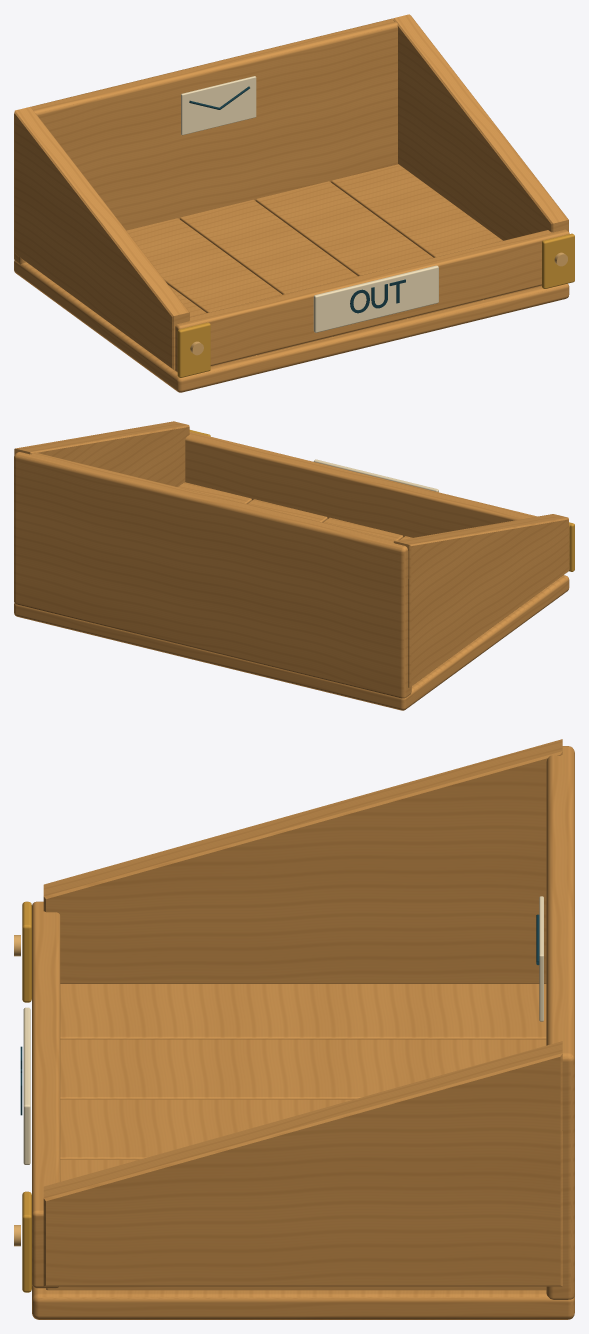
File: mail-dispatch-bin.glb
3 renders of one model, top to bottom at view 1: azimuth 30°, elevation 25°; view 2: azimuth 150°, elevation 25°; view 3: azimuth 270°, elevation 25°, orthographic. The views are drawn at different scales.
Visible parts, largest first — view 1: Dispatch_Bin_Back, Dispatch_Bin_Sloped_Side_-0.15, Dispatch_Bin_Sloped_Side_0.15, Dispatch_Bin_Low_Front, Dispatch_Bin_Subfloor, Dispatch_Bin_Floor_Plank_3, Dispatch_Bin_Floor_Plank_2, Dispatch_Bin_Floor_Plank_4, Dispatch_Bin_Floor_Plank_1, Dispatch_Bin_Post_Plaque, Dispatch_Bin_Envelope_Badge, Dispatch_Bin_Corner_Plate_-0.144 (+2 smaller); view 2: Dispatch_Bin_Back, Dispatch_Bin_Sloped_Side_-0.15, Dispatch_Bin_Low_Front, Dispatch_Bin_Subfloor, Dispatch_Bin_Sloped_Side_0.15, Dispatch_Bin_Floor_Plank_2, Dispatch_Bin_Floor_Plank_3, Dispatch_Bin_Floor_Plank_4, Dispatch_Bin_Post_Plaque; view 3: Dispatch_Bin_Sloped_Side_0.15, Dispatch_Bin_Sloped_Side_-0.15, Dispatch_Bin_Floor_Plank_0, Dispatch_Bin_Floor_Plank_1, Dispatch_Bin_Subfloor, Dispatch_Bin_Back, Dispatch_Bin_Floor_Plank_2, Dispatch_Bin_Low_Front, Dispatch_Bin_Floor_Plank_4, Dispatch_Bin_Post_Plaque, Dispatch_Bin_Corner_Plate_-0.144, Dispatch_Bin_Corner_Plate_0.144 (+1 smaller).
Boxes of the visible parts, x1=… form: Dispatch_Bin_Back: x1=14, y1=18, x2=398, y2=264; Dispatch_Bin_Sloped_Side_-0.15: x1=14, y1=107, x2=189, y2=369; Dispatch_Bin_Sloped_Side_0.15: x1=393, y1=14, x2=568, y2=240; Dispatch_Bin_Low_Front: x1=174, y1=229, x2=569, y2=372; Dispatch_Bin_Subfloor: x1=14, y1=260, x2=569, y2=392; Dispatch_Bin_Floor_Plank_3: x1=255, y1=181, x2=482, y2=318; Dispatch_Bin_Floor_Plank_2: x1=180, y1=199, x2=406, y2=336; Dispatch_Bin_Floor_Plank_4: x1=331, y1=164, x2=541, y2=299; Dispatch_Bin_Floor_Plank_1: x1=126, y1=218, x2=331, y2=355; Dispatch_Bin_Post_Plaque: x1=313, y1=265, x2=438, y2=332; Dispatch_Bin_Envelope_Badge: x1=181, y1=76, x2=256, y2=135; Dispatch_Bin_Corner_Plate_-0.144: x1=177, y1=322, x2=210, y2=377; Dispatch_Bin_Back: x1=14, y1=452, x2=411, y2=698; Dispatch_Bin_Sloped_Side_-0.15: x1=393, y1=514, x2=568, y2=687; Dispatch_Bin_Low_Front: x1=185, y1=431, x2=569, y2=570; Dispatch_Bin_Subfloor: x1=14, y1=575, x2=569, y2=710; Dispatch_Bin_Sloped_Side_0.15: x1=14, y1=421, x2=189, y2=486; Dispatch_Bin_Floor_Plank_2: x1=323, y1=517, x2=403, y2=540; Dispatch_Bin_Floor_Plank_3: x1=247, y1=499, x2=327, y2=522; Dispatch_Bin_Floor_Plank_4: x1=178, y1=482, x2=252, y2=503; Dispatch_Bin_Post_Plaque: x1=313, y1=459, x2=438, y2=492; Dispatch_Bin_Sloped_Side_0.15: x1=43, y1=1041, x2=562, y2=1286; Dispatch_Bin_Sloped_Side_-0.15: x1=43, y1=739, x2=562, y2=983; Dispatch_Bin_Floor_Plank_0: x1=60, y1=984, x2=546, y2=1039; Dispatch_Bin_Floor_Plank_1: x1=60, y1=1039, x2=546, y2=1099; Dispatch_Bin_Subfloor: x1=32, y1=1285, x2=574, y2=1319; Dispatch_Bin_Back: x1=546, y1=746, x2=574, y2=1299; Dispatch_Bin_Floor_Plank_2: x1=60, y1=1099, x2=352, y2=1159; Dispatch_Bin_Low_Front: x1=32, y1=901, x2=60, y2=1288; Dispatch_Bin_Floor_Plank_4: x1=46, y1=1286, x2=546, y2=1290; Dispatch_Bin_Post_Plaque: x1=23, y1=1007, x2=30, y2=1164; Dispatch_Bin_Corner_Plate_-0.144: x1=22, y1=901, x2=31, y2=1002; Dispatch_Bin_Corner_Plate_0.144: x1=22, y1=1191, x2=31, y2=1292.
Size of the model in its own units: 0.314 by 0.1251 by 0.2355.
Materials: 5 (1 with a texture image).
